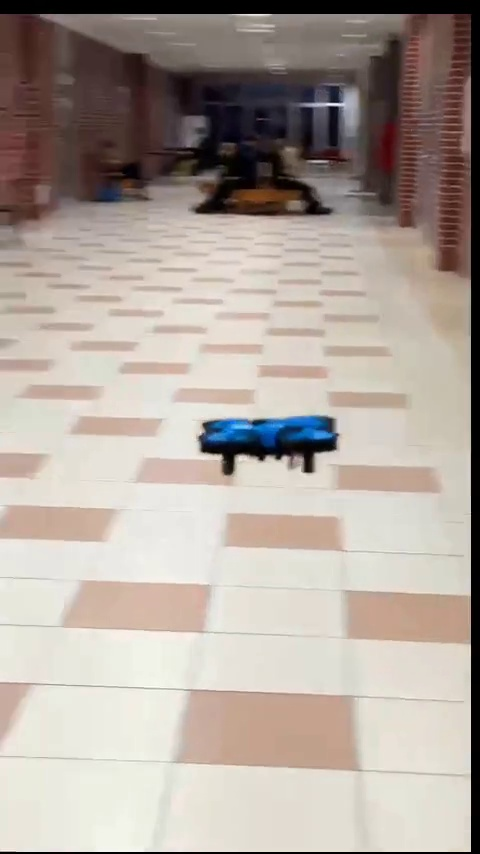drone: (204, 411, 336, 476)
